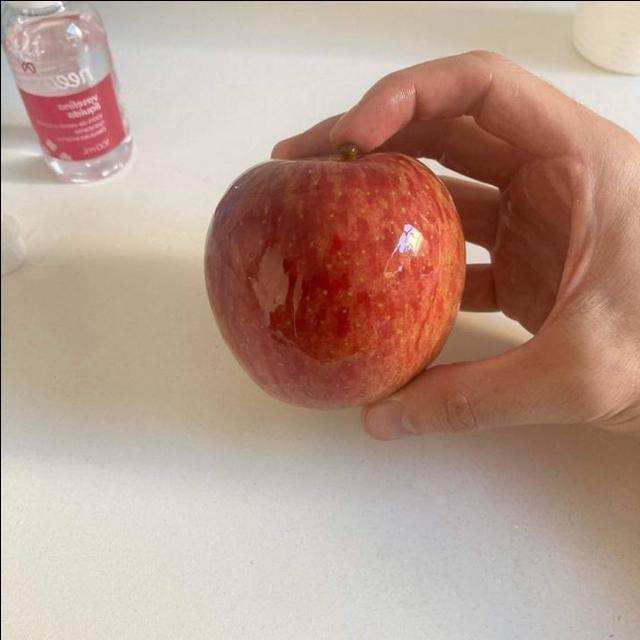Apples: (204, 148, 466, 404)
